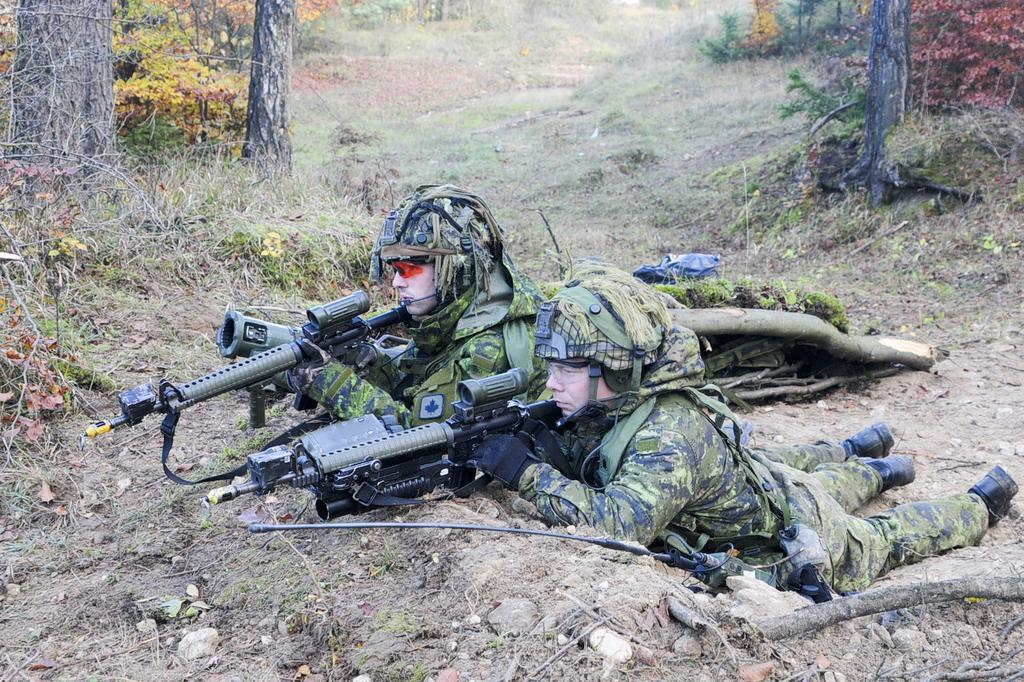gun: (211, 346, 569, 526), (104, 284, 421, 403)
